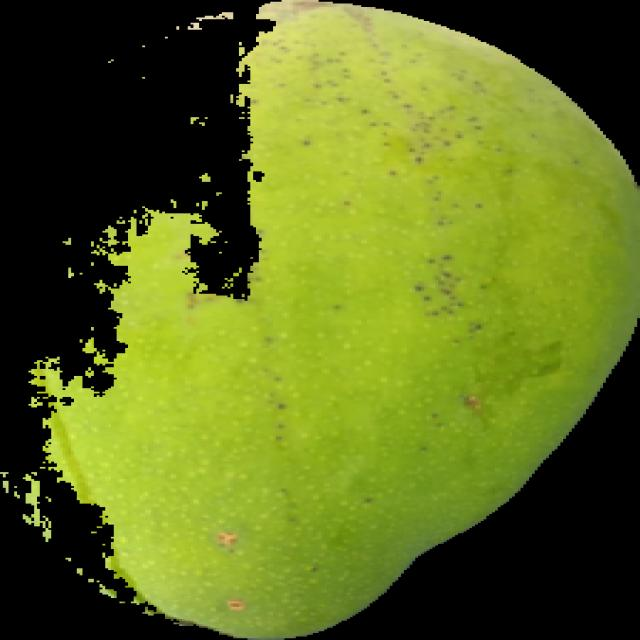Mango-sano: (29, 0, 639, 639)
